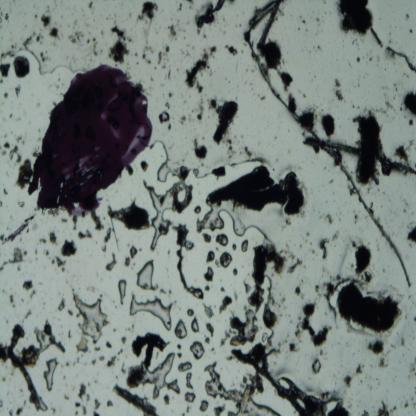Air bubble: (206, 363, 284, 416), (145, 180, 174, 255), (136, 351, 181, 397), (71, 293, 109, 343), (129, 293, 176, 331), (148, 137, 180, 183), (137, 260, 158, 291), (42, 359, 60, 390), (244, 306, 257, 342), (35, 327, 52, 350), (189, 340, 206, 360), (218, 250, 233, 268), (175, 318, 187, 339), (118, 279, 127, 306), (188, 286, 204, 300), (76, 335, 89, 352), (215, 232, 228, 247), (278, 377, 290, 391), (158, 110, 172, 122), (190, 316, 200, 332), (199, 398, 210, 412), (178, 361, 192, 372), (37, 396, 47, 411), (185, 372, 193, 390), (185, 391, 195, 402), (192, 204, 202, 214), (242, 238, 249, 252), (186, 308, 194, 317), (105, 262, 114, 270), (208, 266, 214, 277), (233, 268, 238, 276), (233, 244, 236, 250)
Background material: (338, 281, 402, 337), (352, 106, 389, 190), (208, 95, 238, 146), (107, 202, 153, 235), (113, 383, 159, 416), (290, 381, 333, 416), (335, 0, 375, 37), (302, 301, 329, 352), (131, 330, 171, 364), (172, 164, 194, 218), (186, 48, 211, 94), (0, 213, 37, 242), (196, 0, 229, 32), (108, 22, 130, 68), (174, 246, 195, 294), (228, 344, 270, 368), (349, 236, 374, 274), (0, 245, 28, 272), (44, 320, 66, 353), (174, 220, 194, 256), (263, 44, 287, 72), (141, 44, 170, 66), (14, 156, 32, 187), (247, 282, 266, 310), (12, 55, 34, 79), (231, 315, 247, 344), (128, 363, 144, 390), (138, 1, 158, 22), (268, 336, 288, 356), (300, 106, 316, 131), (109, 217, 120, 253), (265, 302, 277, 334), (216, 294, 233, 316), (62, 238, 80, 258), (22, 346, 40, 366), (395, 144, 412, 165), (327, 401, 350, 416), (322, 113, 336, 137), (48, 254, 66, 272), (352, 272, 372, 288), (403, 91, 416, 115), (194, 137, 208, 159), (198, 301, 214, 320), (278, 71, 294, 90), (8, 144, 23, 164), (370, 26, 384, 47), (67, 29, 84, 46), (367, 338, 384, 355), (288, 258, 304, 276), (91, 210, 105, 230), (164, 20, 178, 40), (221, 328, 236, 346), (333, 77, 344, 101), (322, 278, 334, 300), (225, 136, 236, 160), (253, 377, 266, 397), (319, 237, 330, 259), (192, 102, 204, 122), (2, 43, 16, 58), (21, 34, 33, 51), (377, 399, 389, 416), (223, 42, 239, 54), (77, 382, 88, 399), (374, 104, 389, 116), (404, 227, 416, 242), (0, 60, 11, 76), (286, 94, 297, 110), (311, 360, 323, 374), (287, 341, 301, 353), (22, 277, 34, 291), (77, 228, 91, 240), (103, 225, 112, 243), (292, 320, 300, 340), (204, 321, 214, 337), (49, 26, 60, 40), (0, 343, 8, 362), (138, 157, 148, 172), (385, 100, 397, 112), (212, 165, 224, 177), (342, 376, 354, 388), (42, 15, 53, 28), (243, 145, 254, 158), (92, 36, 99, 56), (39, 48, 49, 62), (108, 354, 118, 367), (48, 230, 57, 244), (119, 360, 128, 374), (409, 355, 416, 372), (9, 292, 16, 308), (162, 69, 172, 80), (176, 113, 186, 124), (204, 272, 215, 282), (324, 212, 333, 224), (14, 134, 26, 143), (58, 298, 66, 311), (14, 85, 23, 96), (164, 394, 172, 406), (347, 184, 355, 196), (268, 294, 276, 306), (380, 356, 388, 368), (124, 254, 132, 266), (71, 357, 81, 366), (110, 253, 118, 264), (332, 230, 339, 242), (295, 284, 302, 296), (18, 199, 26, 209), (225, 354, 233, 364), (352, 37, 360, 47), (174, 351, 184, 359), (117, 346, 125, 356), (94, 396, 100, 409), (72, 216, 78, 229), (356, 364, 363, 375), (130, 245, 137, 256), (192, 167, 200, 176), (410, 396, 416, 408), (280, 295, 288, 304), (400, 336, 406, 348), (105, 340, 114, 348), (245, 282, 251, 294), (207, 250, 214, 260), (204, 284, 212, 292), (106, 400, 114, 408), (389, 406, 397, 414), (158, 286, 166, 294), (97, 354, 105, 362), (362, 408, 370, 416), (16, 408, 24, 416), (2, 188, 9, 197), (4, 141, 11, 150), (101, 243, 108, 252), (233, 290, 238, 302), (353, 212, 358, 224), (38, 238, 48, 244), (82, 404, 87, 416), (390, 342, 397, 350), (91, 358, 98, 366), (164, 100, 171, 108), (74, 401, 82, 408), (120, 336, 127, 344), (179, 1, 184, 12), (319, 347, 325, 356), (314, 283, 320, 292), (36, 33, 42, 42), (26, 310, 31, 320), (404, 399, 409, 409), (4, 13, 11, 20), (36, 100, 42, 108), (355, 55, 361, 63), (167, 90, 173, 98), (187, 0, 195, 6), (0, 149, 6, 157), (167, 123, 173, 131), (68, 308, 74, 316), (210, 47, 216, 55), (30, 291, 36, 299), (3, 90, 8, 99), (51, 405, 56, 414), (67, 330, 72, 339), (61, 218, 68, 224), (408, 119, 414, 126), (1, 375, 7, 382), (336, 274, 343, 280), (408, 138, 414, 145), (43, 249, 50, 255), (94, 346, 102, 351), (315, 17, 320, 25), (92, 411, 100, 416), (262, 332, 266, 342), (0, 397, 3, 409), (0, 10, 3, 22), (64, 395, 70, 401), (34, 247, 38, 256), (317, 44, 323, 50), (204, 338, 210, 344), (228, 0, 235, 5), (47, 5, 52, 12), (370, 200, 374, 208), (0, 200, 4, 208), (394, 84, 398, 92), (305, 232, 310, 238), (8, 114, 14, 119), (408, 28, 413, 34), (367, 55, 372, 61), (9, 410, 14, 416), (285, 221, 290, 227), (260, 95, 266, 100), (186, 405, 189, 414), (240, 48, 245, 53), (33, 13, 38, 18), (86, 394, 90, 400), (177, 344, 181, 350), (222, 288, 226, 294), (168, 288, 172, 294), (301, 294, 305, 300), (66, 360, 69, 368), (400, 107, 404, 113), (200, 34, 206, 38), (403, 208, 407, 214), (312, 248, 316, 254), (89, 1, 92, 9), (74, 410, 78, 415), (238, 23, 242, 28), (134, 51, 138, 56), (302, 92, 306, 97), (402, 71, 406, 75), (388, 40, 392, 44), (322, 0, 326, 4), (302, 20, 306, 24), (226, 79, 230, 83), (414, 387, 416, 395), (87, 39, 90, 44), (384, 67, 387, 72), (406, 13, 409, 18), (405, 202, 408, 207), (413, 317, 416, 322), (211, 347, 214, 351), (182, 413, 186, 416), (136, 61, 140, 64), (360, 378, 362, 384), (357, 105, 360, 109), (352, 104, 355, 108), (324, 10, 327, 14), (305, 29, 308, 32), (406, 75, 410, 77), (315, 114, 317, 118), (357, 85, 360, 87), (354, 85, 356, 88), (314, 75, 316, 78), (357, 404, 359, 407), (376, 378, 378, 380), (298, 28, 300, 30)
Cellulose filter fibre: (247, 2, 412, 288), (7, 324, 41, 410), (258, 0, 282, 51), (387, 46, 416, 73)
Fragment: (208, 164, 310, 222)
Pen: (27, 64, 151, 219)
